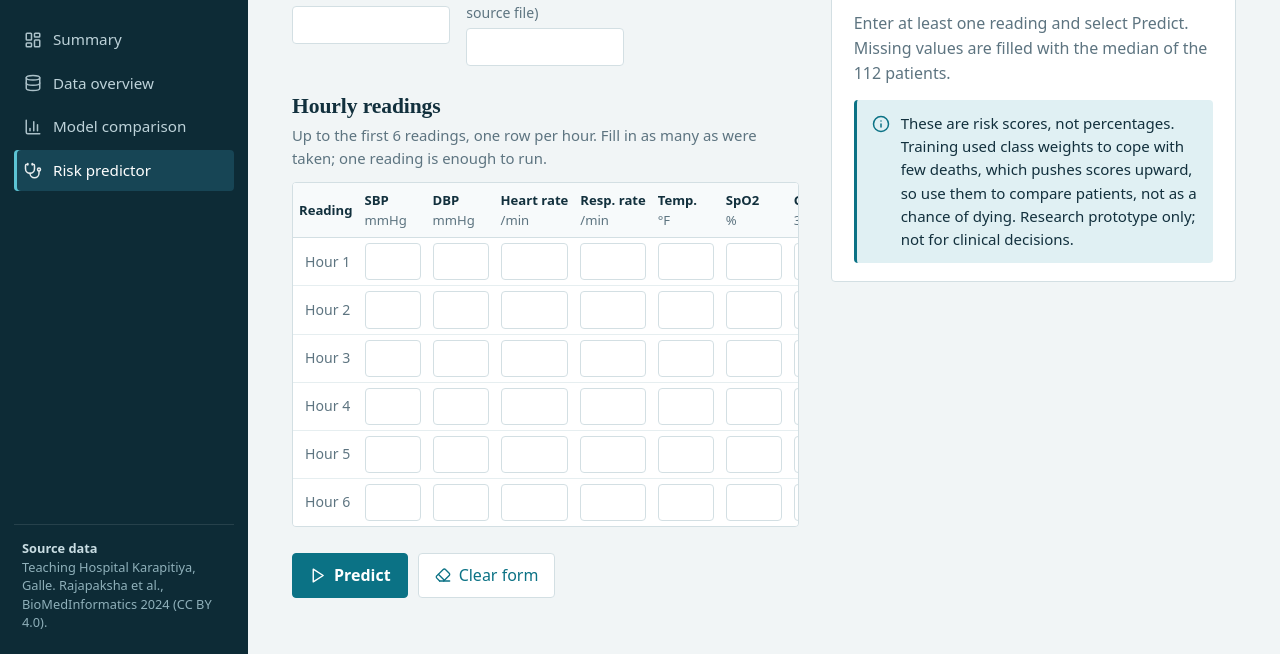
Test case: risk predictor shows the server message when prediction is rejected
(page scrolled)
Step 1. Click the button "Predict" → (350, 575), box [292,553,408,598]
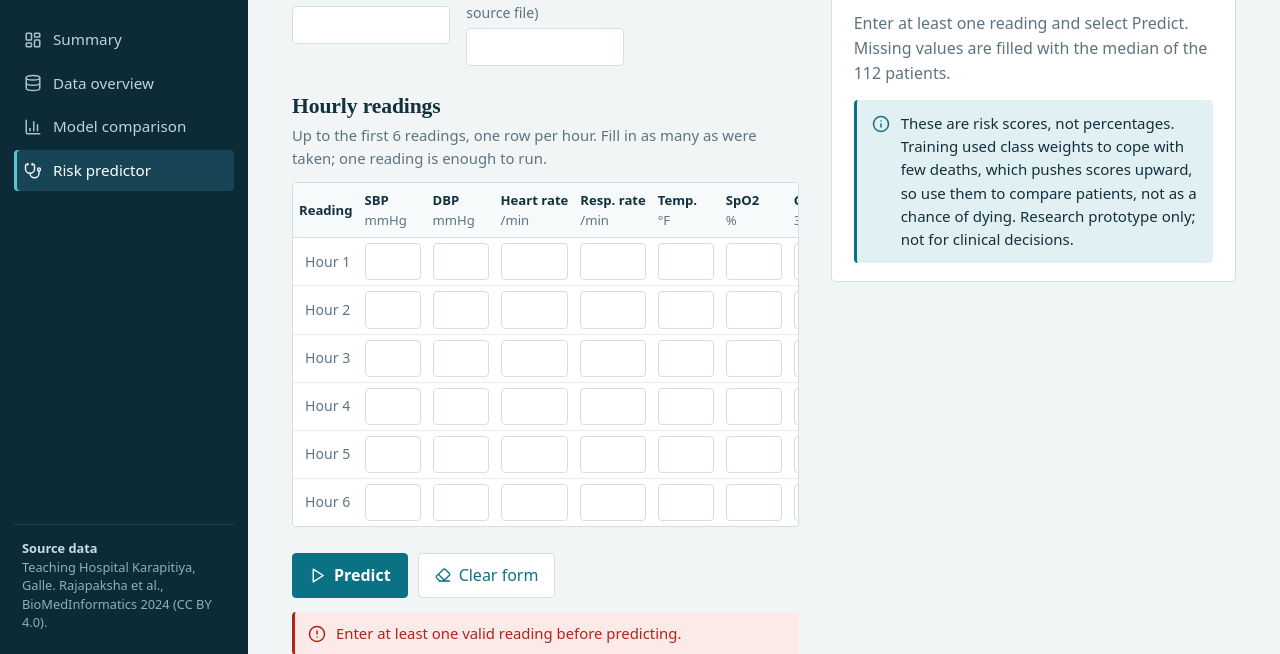
Expected: the message shows "Enter at least one valid reading", [336,622,681,642]
